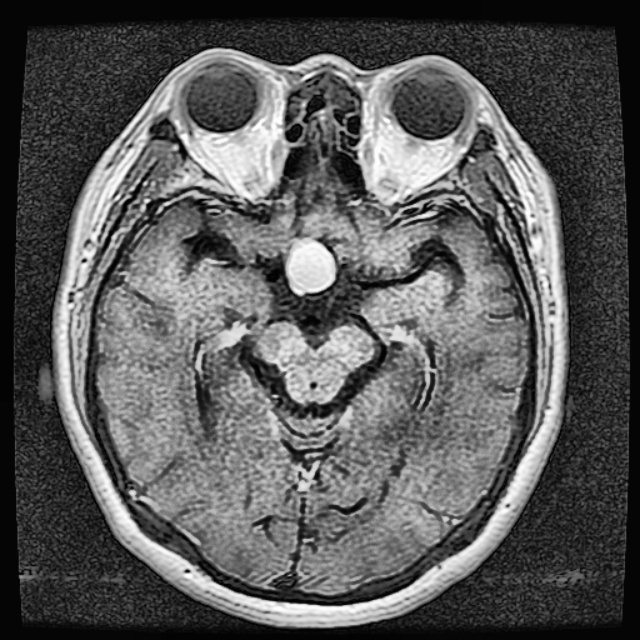Pituitary: (287, 242, 338, 292)
